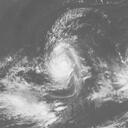cyclone: (42, 42, 81, 90)
